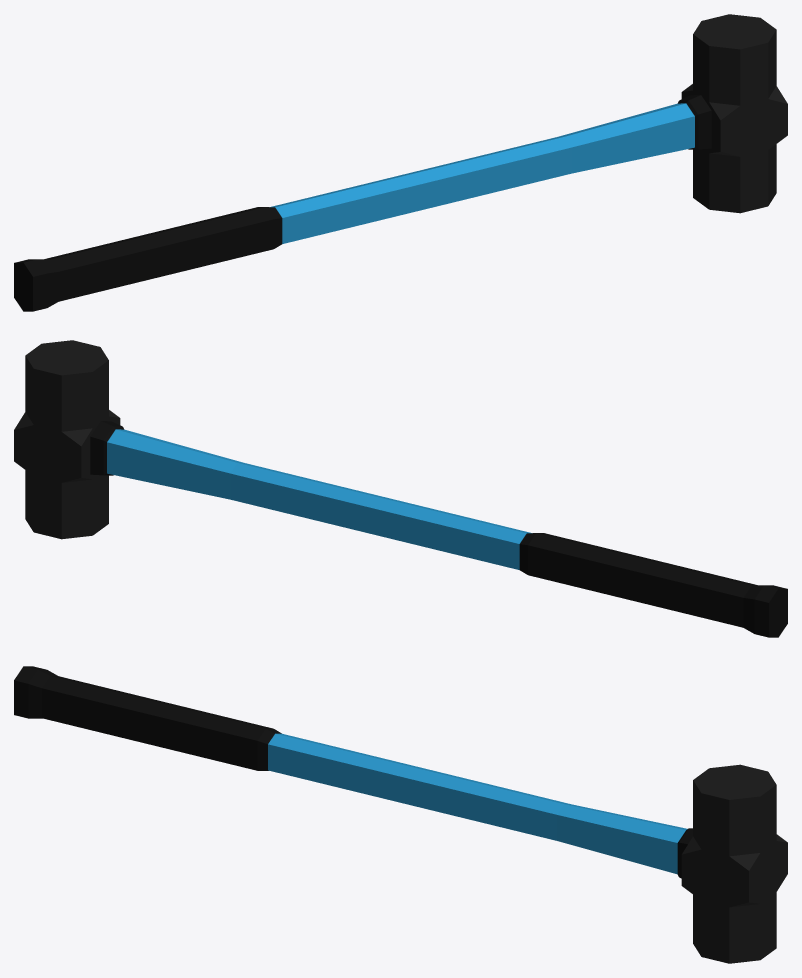
Rendered from sledgehammer.glb.
The picture shows the model from 3 angles, top to bottom: view 1: azimuth 30°, elevation 25°; view 2: azimuth 150°, elevation 25°; view 3: azimuth 330°, elevation 25°; orthographic projection.
Visible parts, largest first — view 1: sledgehammer; view 2: sledgehammer; view 3: sledgehammer.
Boxes of the visible parts, x1,y1,x2,y2 form: sledgehammer: (14, 14, 787, 311); sledgehammer: (14, 340, 787, 637); sledgehammer: (14, 666, 787, 963).
Size of the model in its own units: 0.8285 by 0.1741 by 0.0749.
1 material, 1 textured.
